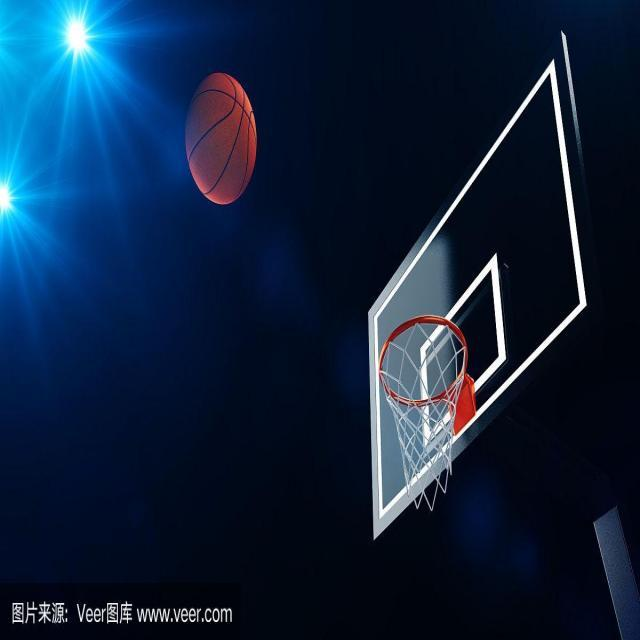rim: (187, 68, 256, 205)
